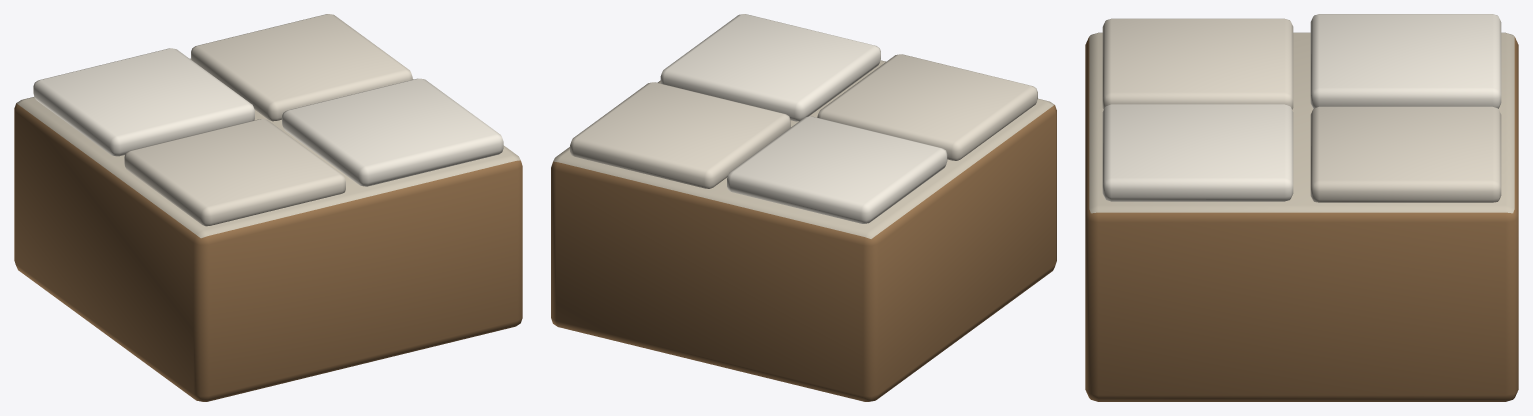
Rendered from tile-plaza.glb.
3 renders of one model, left to right at view 1: azimuth 30°, elevation 25°; view 2: azimuth 150°, elevation 25°; view 3: azimuth 270°, elevation 25°, orthographic. The views are drawn at different scales.
Parts seen in each view (by area): view 1: tile; view 2: tile; view 3: tile.
Boxes of the visible parts, x1,y1,x2,y2 form: tile: (14, 14, 522, 401); tile: (551, 14, 1056, 401); tile: (1085, 14, 1518, 401).
Bounding box in the file's own units: 1 × 0.562 × 1.
